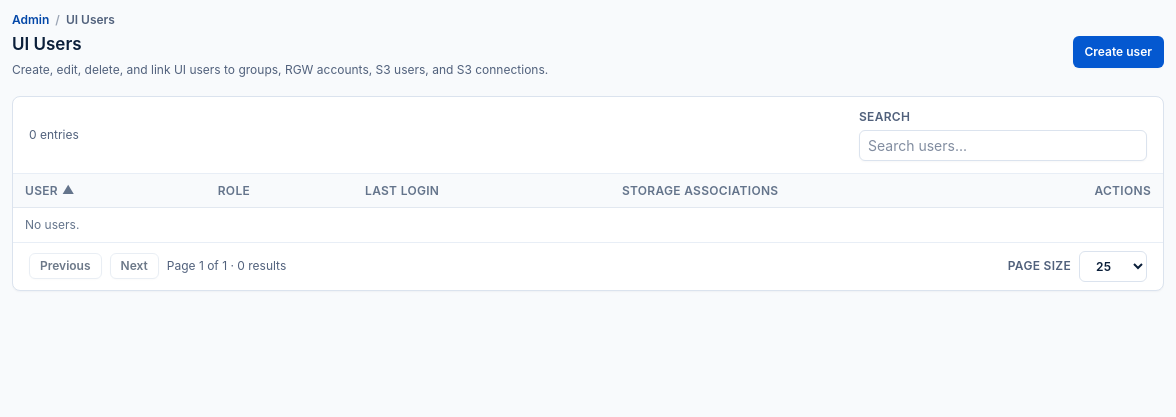
Test: UsersPage modal tabs › shows Workspaces tab and keeps workspace toggles out of General in create modal
What coordinates should you click on to do the following:
click the button "Create user"
I would click on:
 (1118, 52)
Its box is [1072,36,1164,68].
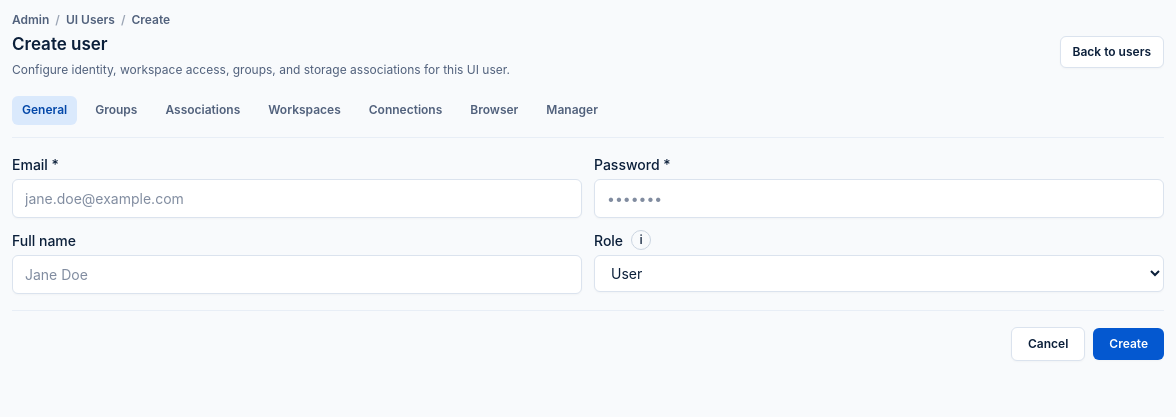
expect the tab "General" is shown: met, box [12,96,77,124]
expect the tab "Associations" is shown: met, box [156,96,250,124]
expect the tab "Workspaces" is shown: met
What coordinates should you click on to do the following:
click the tab "Workspaces"
I would click on:
 (304, 110)
Its box is [258,96,351,124].
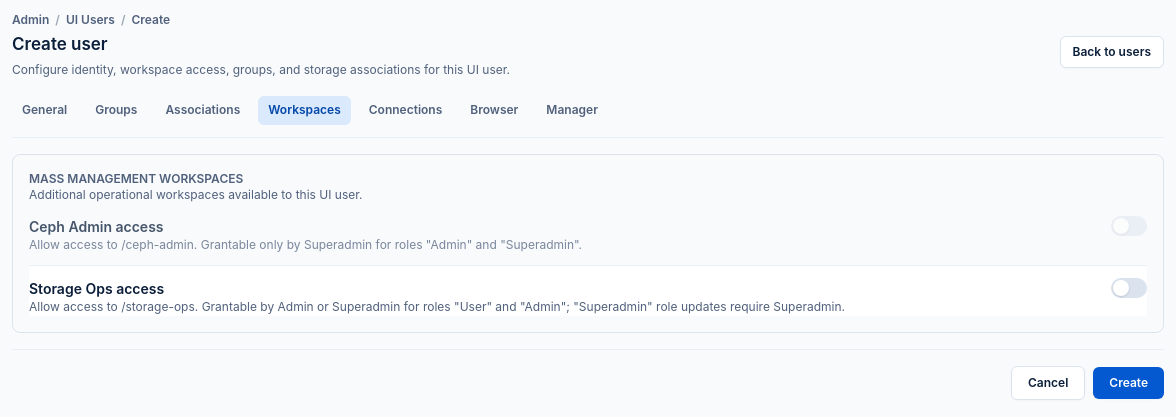
expect the text "Mass management workspaces" is shown: met, box [29,170,243,186]
expect the text "Ceph Admin access" is shown: met, box [29,218,164,234]
expect the text "Storage Ops access" is shown: met, box [29,280,164,297]
